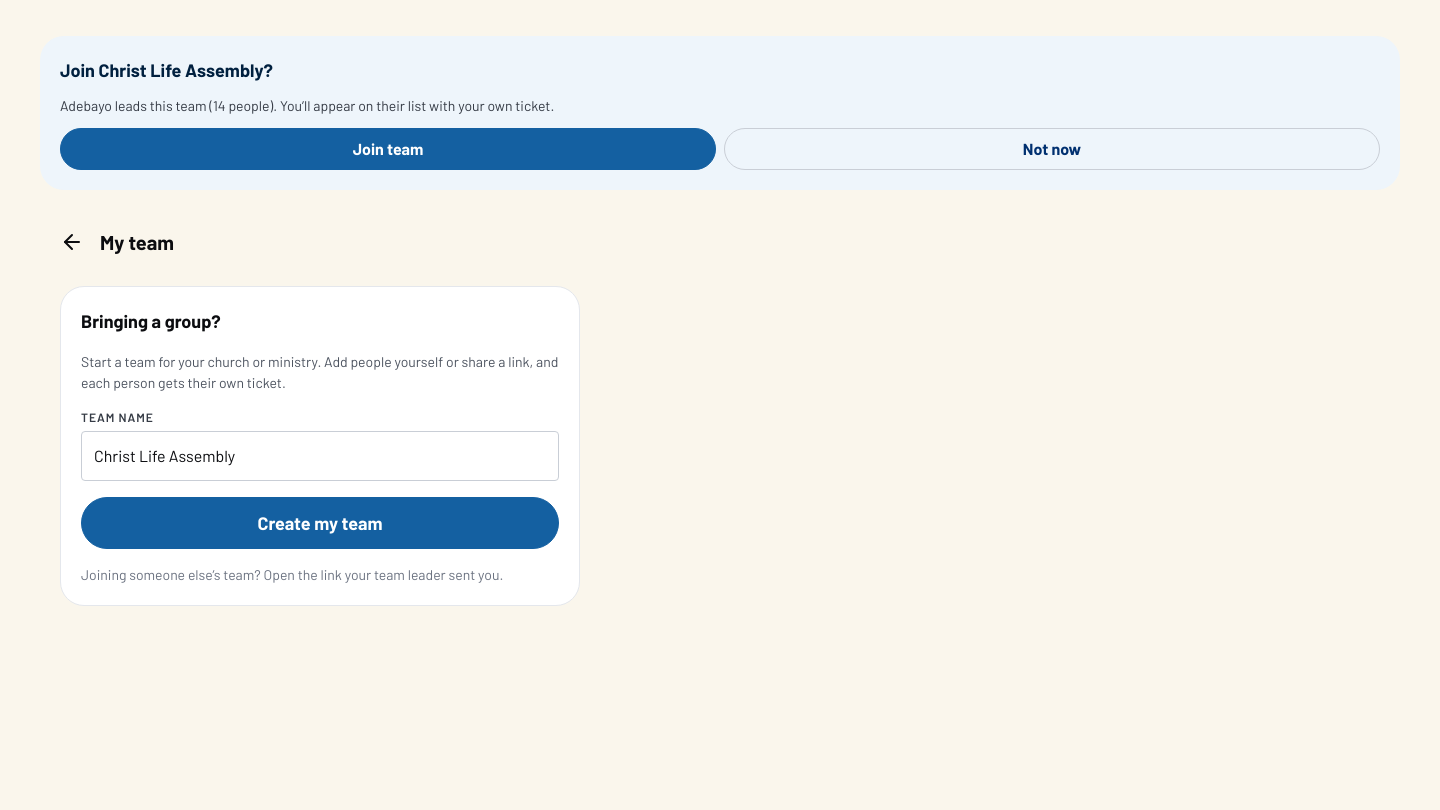
Scenario: Team (phone) › offers to join from a share link and reports a full team
Expected: the heading "Join Christ Life Assembly?" is shown, [60,59,273,81]
Expected: the text "Adebayo leads this team (14 people)" is shown, [60,97,554,114]
Click the button "Join team": (388, 149) [60,128,716,170]
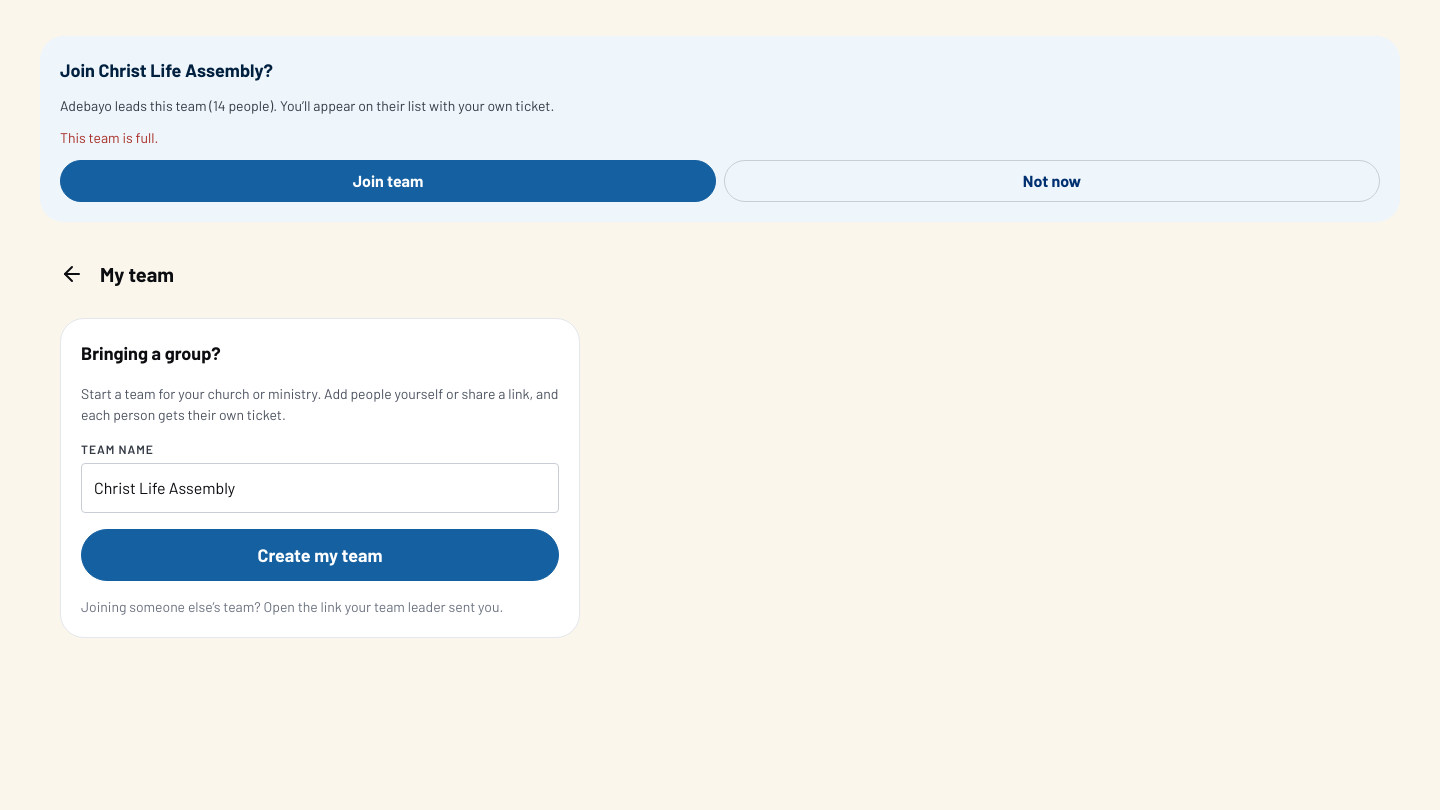
Expected: the text "This team is full." is shown, [60,129,158,146]
